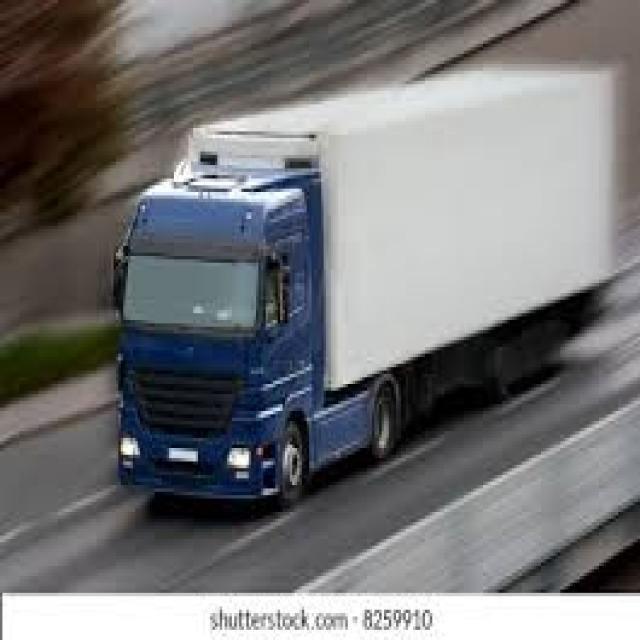covered: (116, 77, 616, 505)
